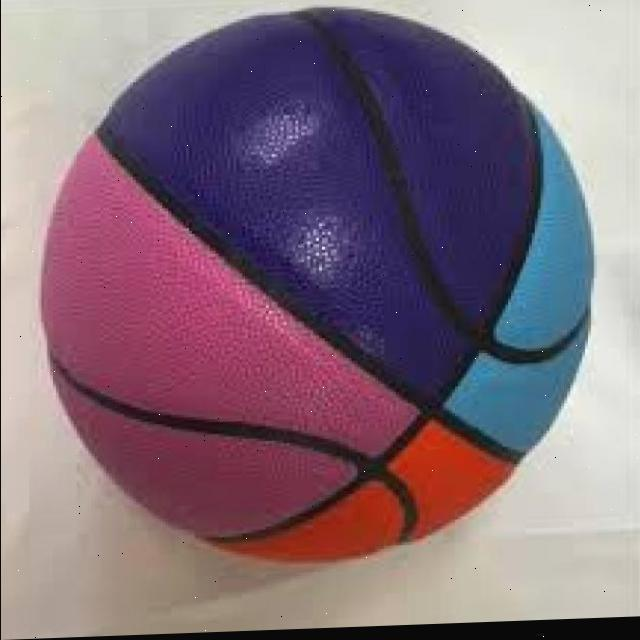Basketball: (43, 9, 594, 562)
